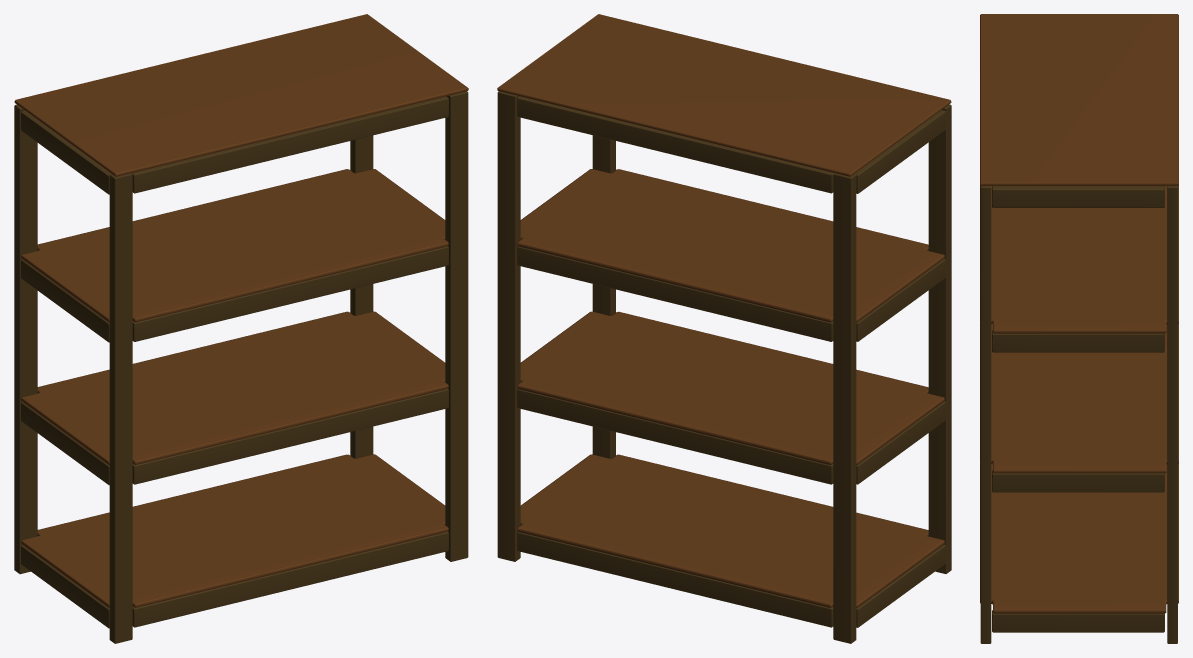
File: Shelf_03.fbx
The picture shows the model from 3 angles, left to right: view 1: azimuth 30°, elevation 25°; view 2: azimuth 150°, elevation 25°; view 3: azimuth 270°, elevation 25°; orthographic projection.
Parts seen in each view (by area): view 1: Box142; view 2: Box142; view 3: Box142.
Boxes of the visible parts, left/top/right/bottom form: Box142: left=14, top=14, right=468, bottom=643; Box142: left=497, top=14, right=951, bottom=643; Box142: left=980, top=14, right=1178, bottom=643.
Size of the model in its own units: 146 by 185 by 72.
